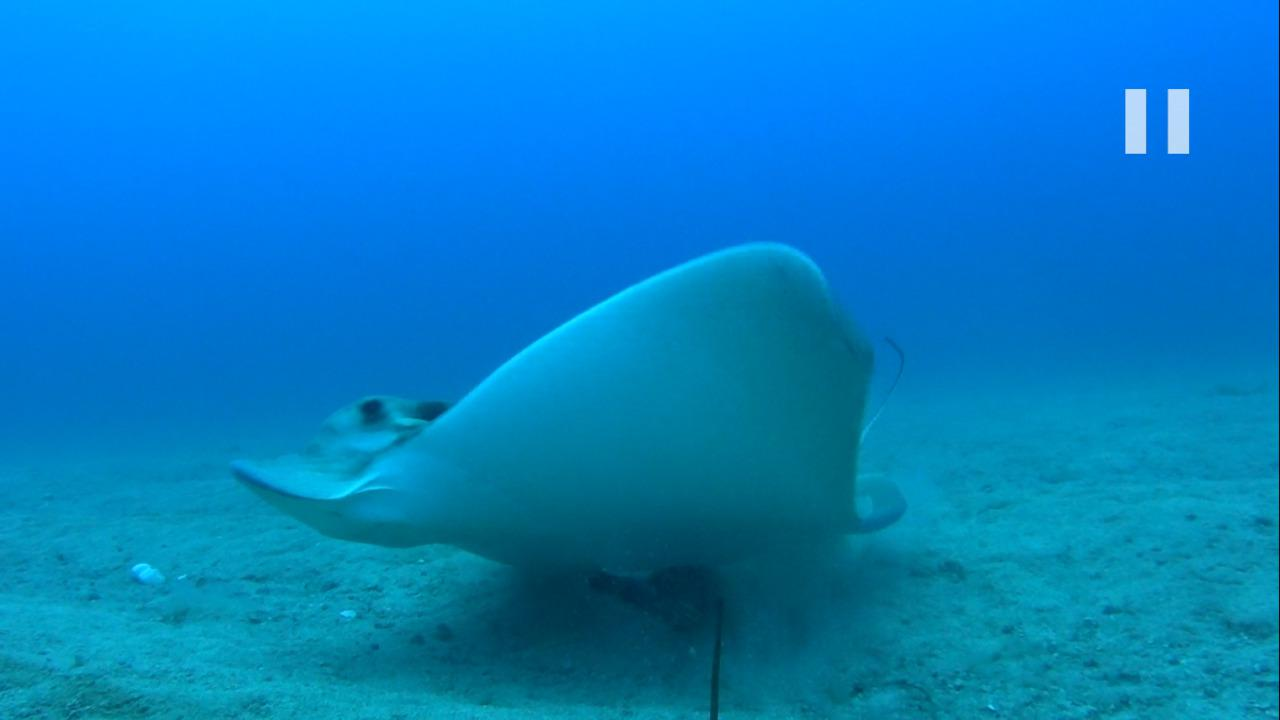myliobatis: (225, 239, 921, 577)
